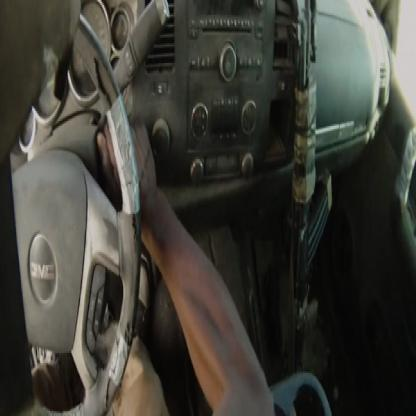Gun: (287, 0, 337, 415)
